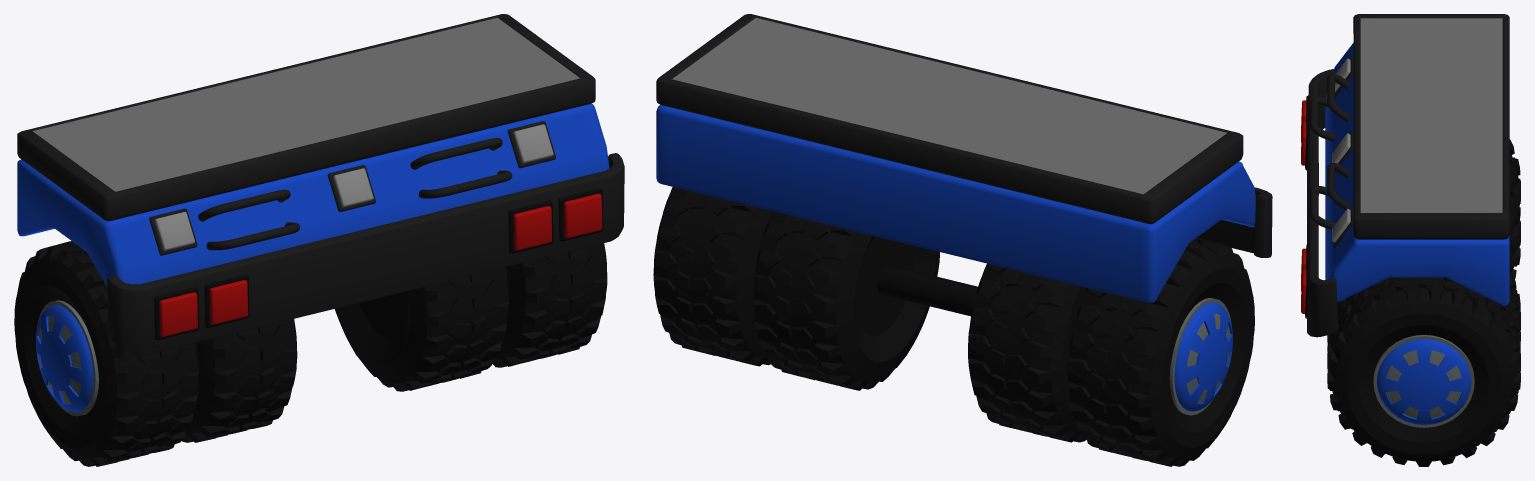
Rendered from BackPart.fbx.
The picture shows the model from 3 angles, left to right: view 1: azimuth 30°, elevation 25°; view 2: azimuth 150°, elevation 25°; view 3: azimuth 270°, elevation 25°; orthographic projection. The views are drawn at different scales.
Parts seen in each view (by area): view 1: BackPart, BackWheels; view 2: BackPart, BackWheels; view 3: BackPart, BackWheels.
Part boxes in pixels (left/top/right/bottom): BackPart: left=17, top=14, right=624, bottom=354; BackWheels: left=14, top=241, right=607, bottom=466; BackPart: left=656, top=14, right=1272, bottom=302; BackWheels: left=653, top=187, right=1254, bottom=466; BackPart: left=1301, top=14, right=1509, bottom=337; BackWheels: left=1327, top=139, right=1520, bottom=466.
Size of the model in its own units: 331 by 181 by 143.
